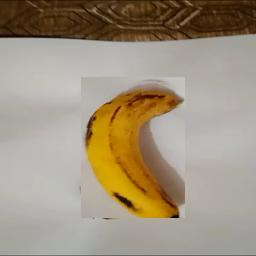Banana Semifresh: (81, 77, 185, 218)
